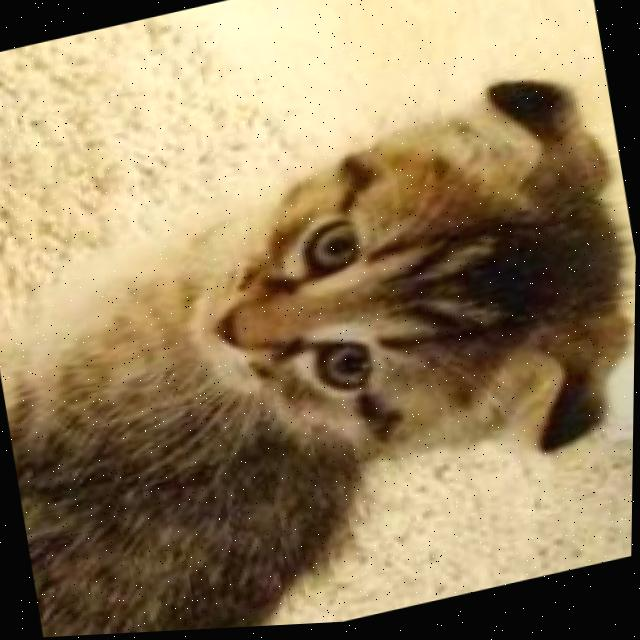Scottish Fold: (0, 58, 639, 640)
